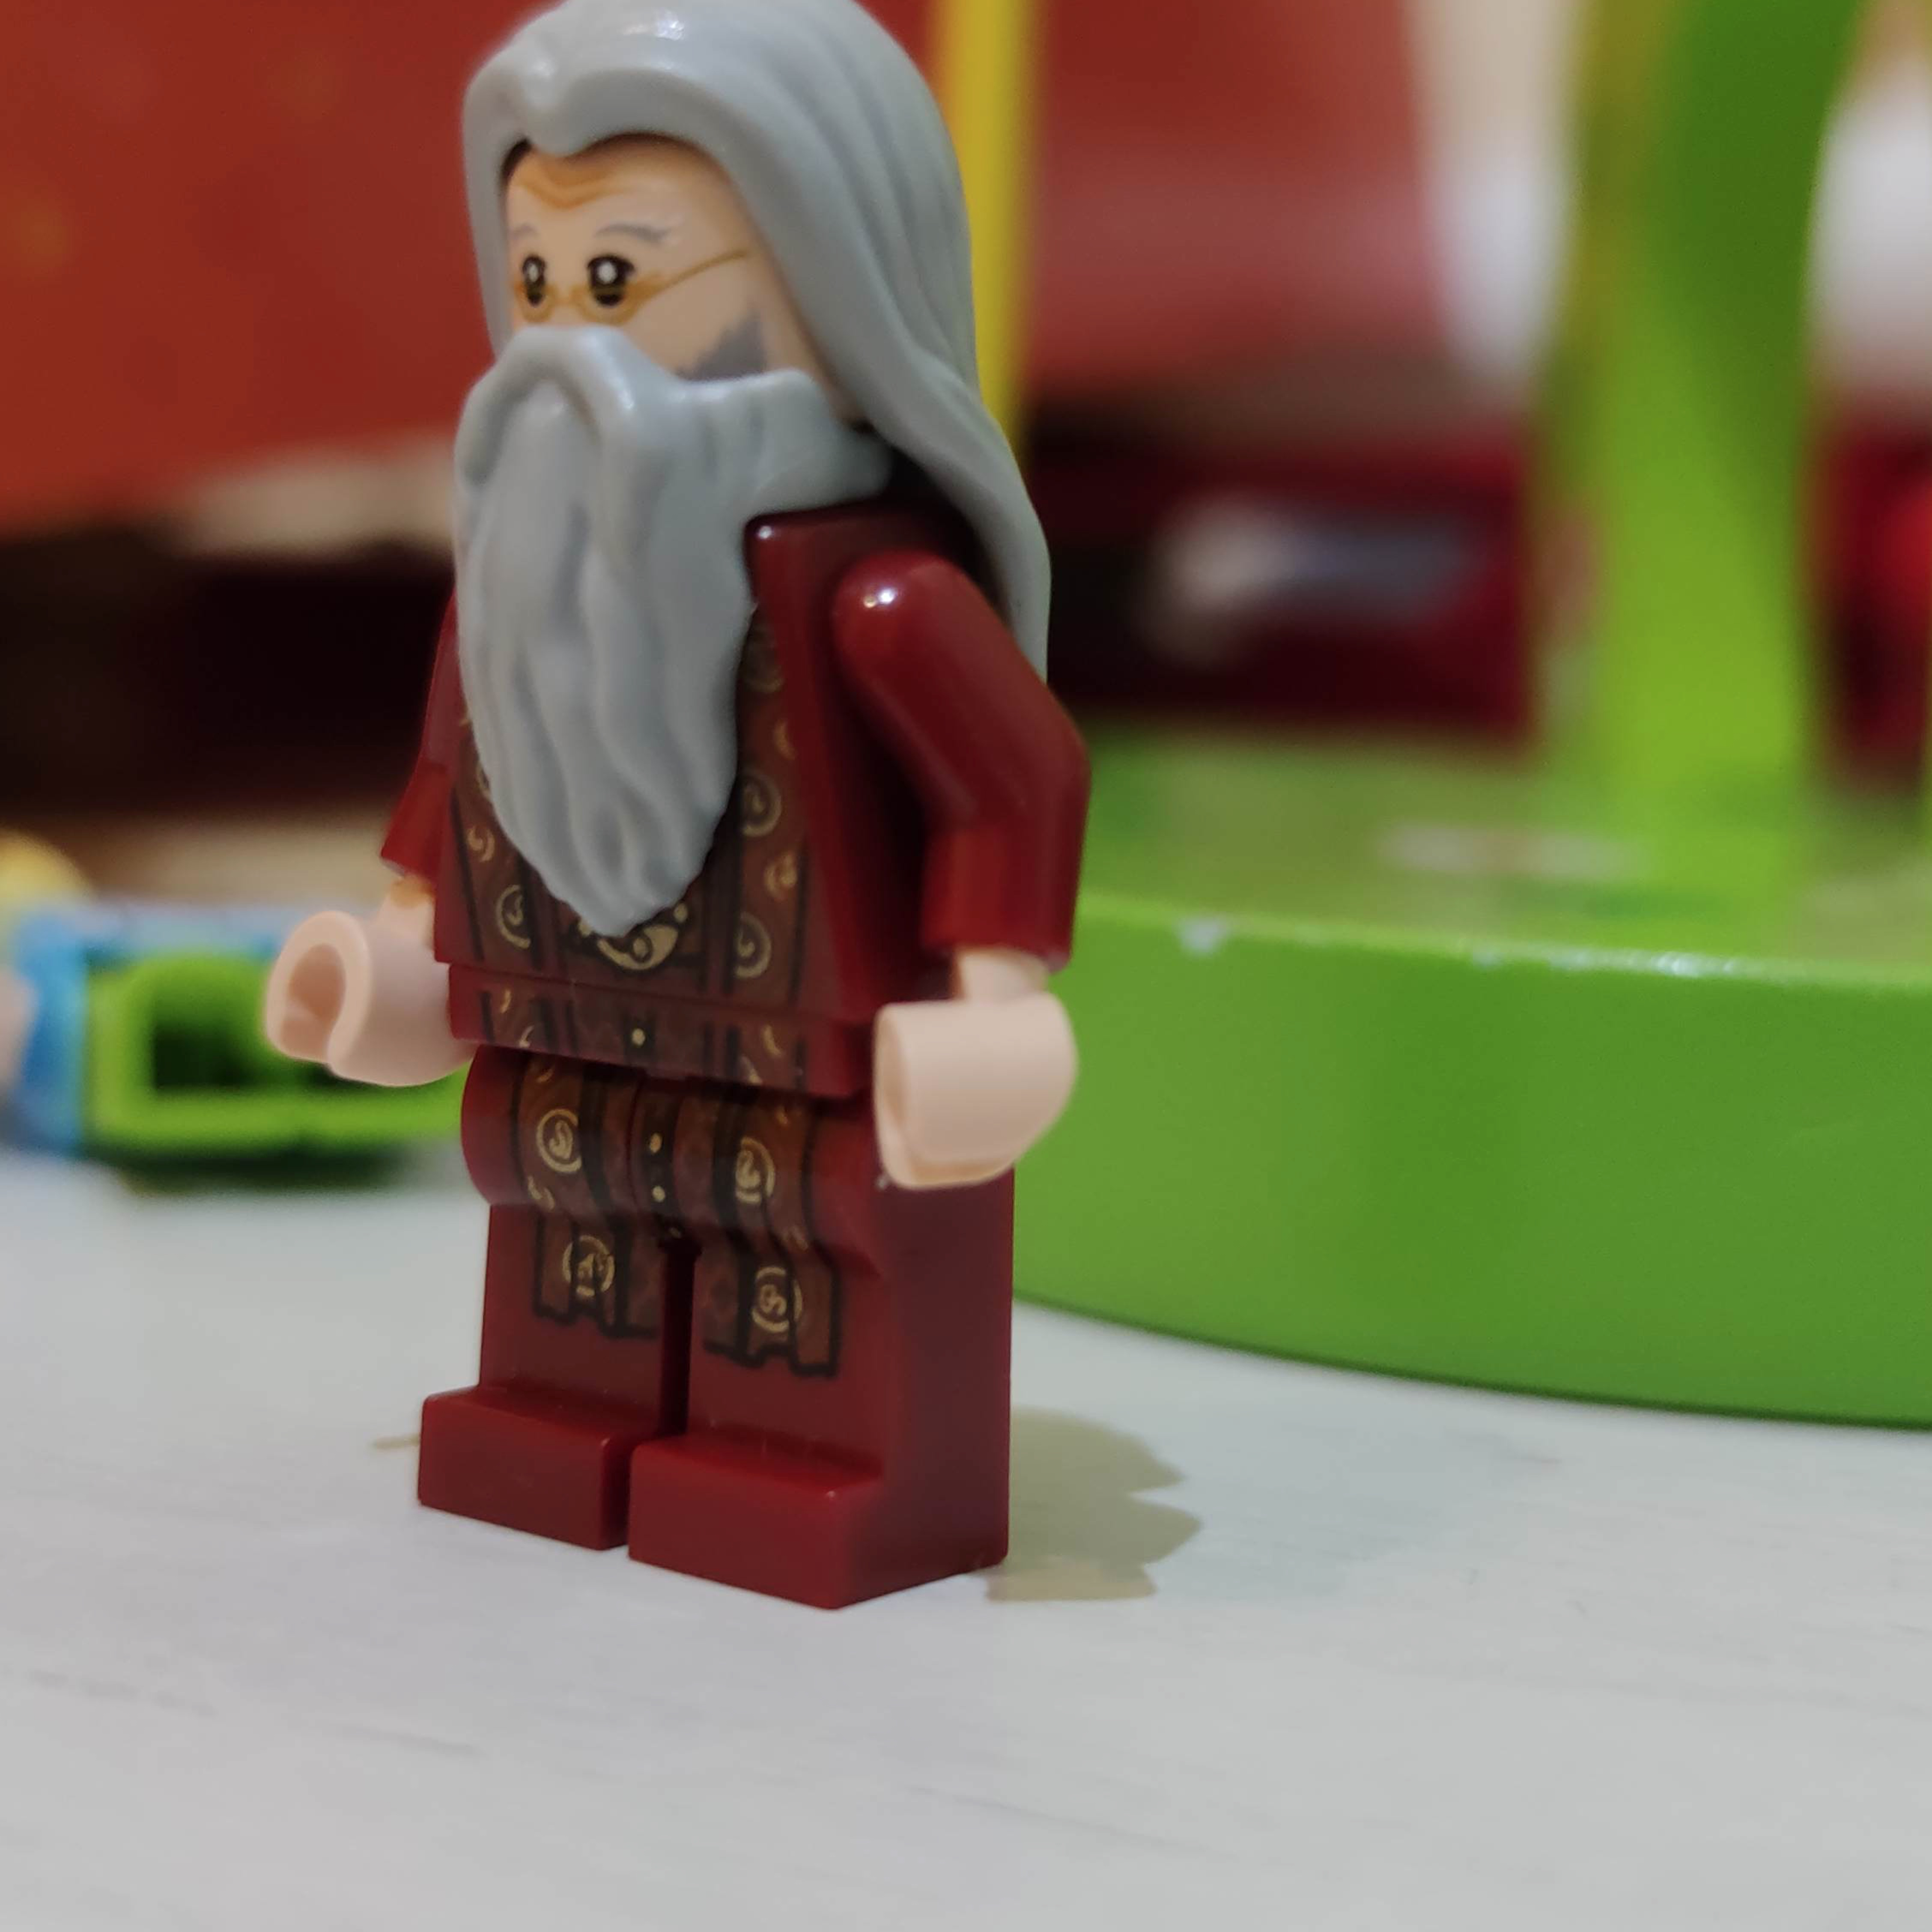lego: (258, 0, 1092, 1612)
